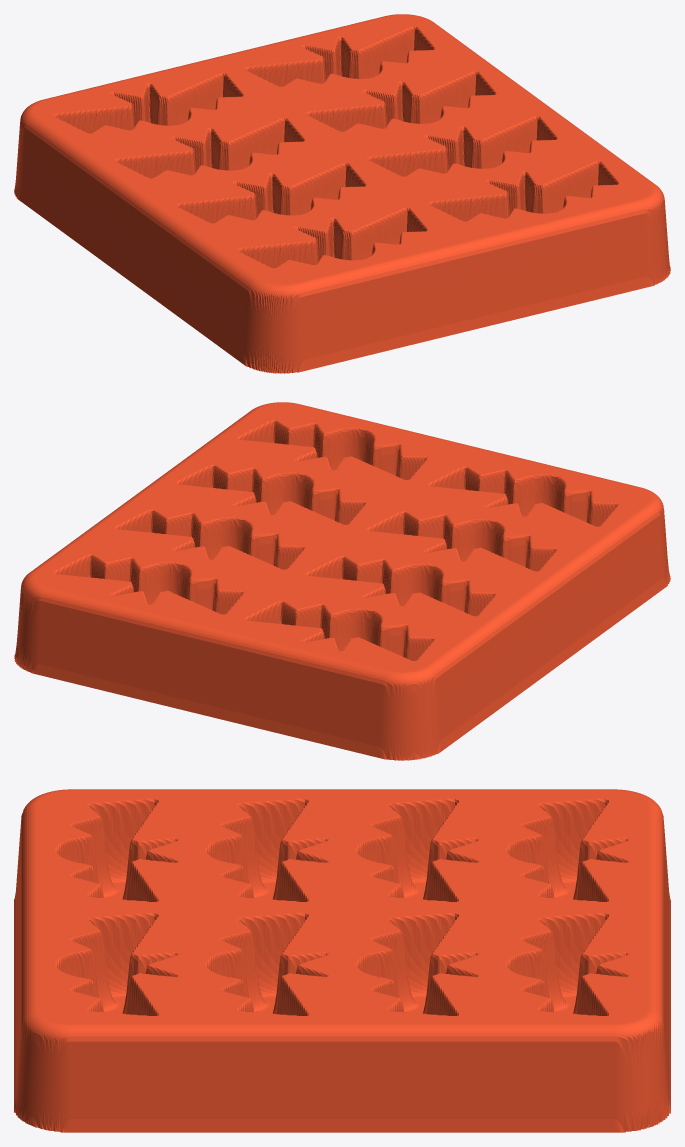
File: mold.glb
The picture shows the model from 3 angles, top to bottom: view 1: azimuth 30°, elevation 25°; view 2: azimuth 150°, elevation 25°; view 3: azimuth 270°, elevation 25°; orthographic projection. The views are drawn at different scales.
Visible parts, largest first — view 1: geometry_0; view 2: geometry_0; view 3: geometry_0.
Part boxes in pixels (x1,y1,x2,y2): geometry_0: (14, 14, 670, 373); geometry_0: (14, 402, 670, 760); geometry_0: (14, 789, 670, 1132).
Bounding box in the file's own units: 0.0956 × 0.0175 × 0.1052.
